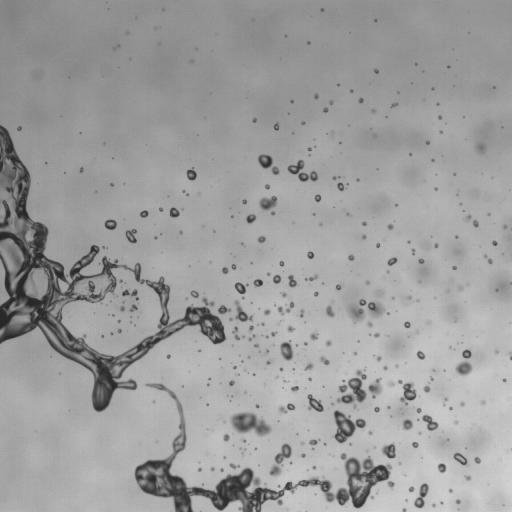droplet: (337, 369, 366, 407), (333, 410, 366, 443), (230, 412, 271, 436), (347, 299, 385, 323), (455, 349, 472, 375), (398, 380, 416, 404), (367, 378, 382, 397), (307, 394, 323, 411), (422, 414, 438, 430), (280, 341, 293, 360), (259, 196, 276, 210), (381, 443, 395, 458), (453, 453, 467, 465), (278, 403, 294, 413), (235, 282, 247, 295), (125, 229, 136, 243), (186, 168, 196, 180), (104, 219, 116, 229), (218, 305, 230, 314), (402, 419, 412, 429), (288, 275, 296, 287), (326, 305, 334, 317), (170, 207, 179, 217), (437, 463, 446, 473), (246, 214, 255, 223), (387, 257, 397, 265), (476, 144, 484, 153), (417, 350, 425, 359), (320, 356, 329, 364), (309, 439, 319, 446), (273, 275, 281, 283), (310, 332, 318, 340), (253, 279, 262, 286), (337, 182, 344, 190), (140, 210, 148, 217), (190, 290, 198, 297), (375, 290, 383, 297), (305, 362, 313, 369), (130, 304, 137, 311), (258, 236, 265, 242), (307, 251, 313, 258), (287, 326, 294, 332), (223, 434, 229, 441), (387, 481, 394, 487), (230, 463, 238, 468), (348, 254, 354, 260), (222, 267, 228, 273), (264, 309, 270, 315), (404, 321, 410, 327), (424, 386, 430, 392), (474, 457, 480, 463), (315, 194, 320, 201), (473, 220, 478, 227), (291, 386, 298, 391), (387, 224, 393, 229), (336, 284, 341, 290), (248, 325, 253, 331), (326, 340, 331, 346), (412, 442, 418, 447), (274, 123, 278, 130), (466, 215, 471, 220), (279, 261, 284, 266), (281, 292, 286, 297), (367, 322, 372, 327), (229, 380, 234, 385), (374, 407, 379, 412), (391, 103, 397, 107), (300, 310, 304, 316), (373, 333, 379, 337), (443, 398, 447, 404), (314, 94, 318, 99), (323, 107, 327, 112), (265, 184, 269, 189), (242, 199, 246, 204), (492, 241, 497, 245), (231, 265, 236, 269), (314, 291, 318, 296), (120, 306, 124, 311), (271, 332, 276, 336), (376, 356, 381, 360), (388, 382, 393, 386), (416, 408, 421, 412), (465, 476, 470, 480), (374, 69, 378, 73), (359, 98, 363, 102), (329, 100, 333, 104), (17, 126, 21, 130), (362, 235, 366, 239), (434, 243, 438, 247), (419, 259, 423, 263), (266, 360, 270, 364), (383, 366, 387, 370), (460, 402, 464, 406), (454, 420, 458, 424), (301, 453, 305, 457), (210, 467, 214, 471), (409, 487, 413, 491), (456, 499, 460, 503), (406, 296, 411, 299), (253, 118, 256, 122), (333, 176, 337, 179), (362, 222, 366, 225), (376, 243, 379, 247), (412, 249, 415, 253), (254, 344, 258, 347), (265, 350, 268, 354), (368, 431, 372, 434), (241, 439, 245, 442), (402, 508, 406, 511), (308, 147, 311, 150), (80, 168, 83, 171), (159, 208, 162, 211), (271, 212, 274, 215), (459, 287, 462, 290), (118, 329, 121, 332), (167, 355, 170, 358), (430, 377, 433, 380), (503, 378, 506, 381), (312, 466, 315, 469), (198, 468, 201, 471), (449, 489, 452, 492), (481, 401, 485, 403), (438, 116, 441, 118), (302, 121, 304, 124), (179, 231, 182, 233), (453, 266, 455, 269), (267, 273, 270, 275), (366, 281, 369, 283), (229, 318, 232, 320), (233, 366, 236, 368), (256, 405, 259, 407), (449, 407, 452, 409), (301, 442, 303, 445), (432, 504, 435, 506), (372, 110, 374, 112), (118, 320, 120, 322), (261, 323, 263, 325), (280, 368, 282, 370), (432, 369, 434, 371), (441, 502, 443, 504)
ligament: (0, 125, 226, 412), (134, 385, 390, 511), (270, 443, 291, 476), (288, 160, 317, 181), (258, 154, 279, 174), (235, 300, 252, 321), (414, 483, 428, 508), (277, 302, 294, 314), (122, 289, 138, 299), (233, 327, 239, 340), (306, 275, 317, 281), (484, 255, 492, 263), (248, 335, 255, 340), (509, 352, 511, 360)
